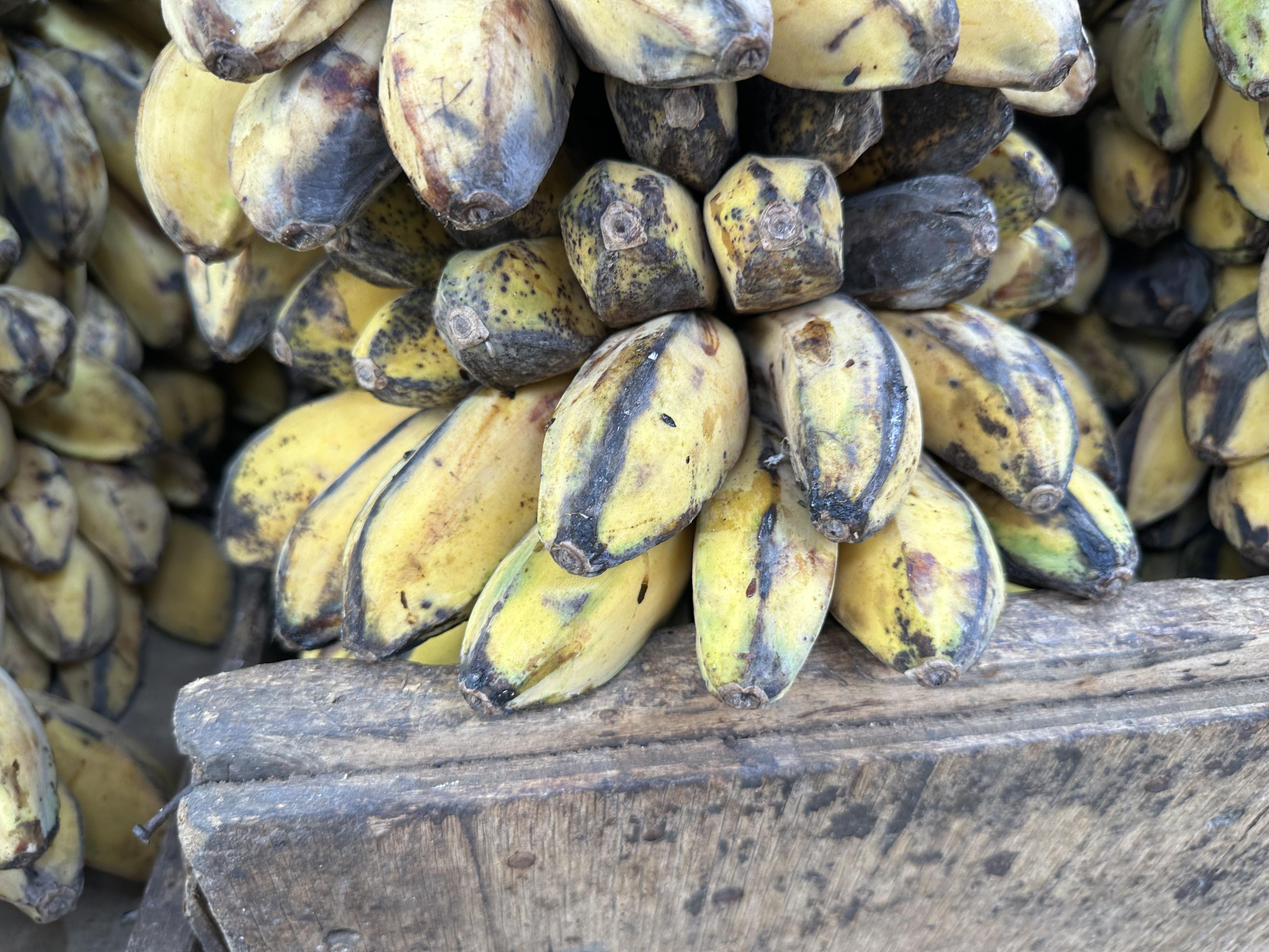ripe: (217, 297, 1139, 713), (269, 74, 1079, 407), (137, 0, 1095, 258), (1041, 106, 1269, 411), (0, 0, 189, 348), (0, 285, 287, 508), (0, 446, 234, 718), (1122, 253, 1269, 567), (0, 669, 169, 923)
underripe: (1092, 0, 1269, 222)
